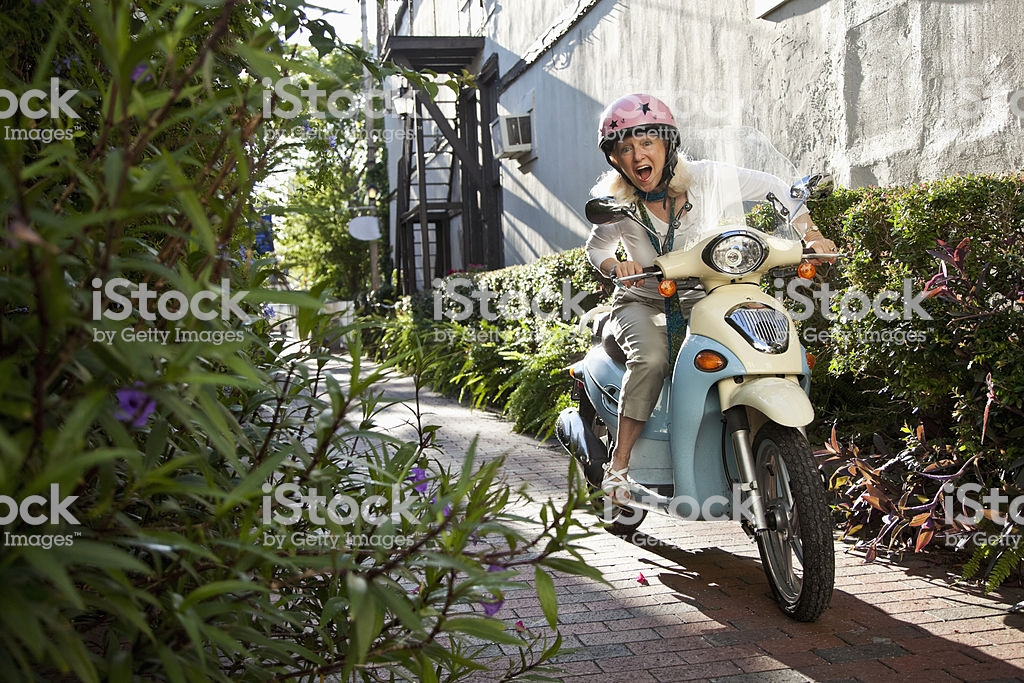helmet: (592, 92, 676, 154)
